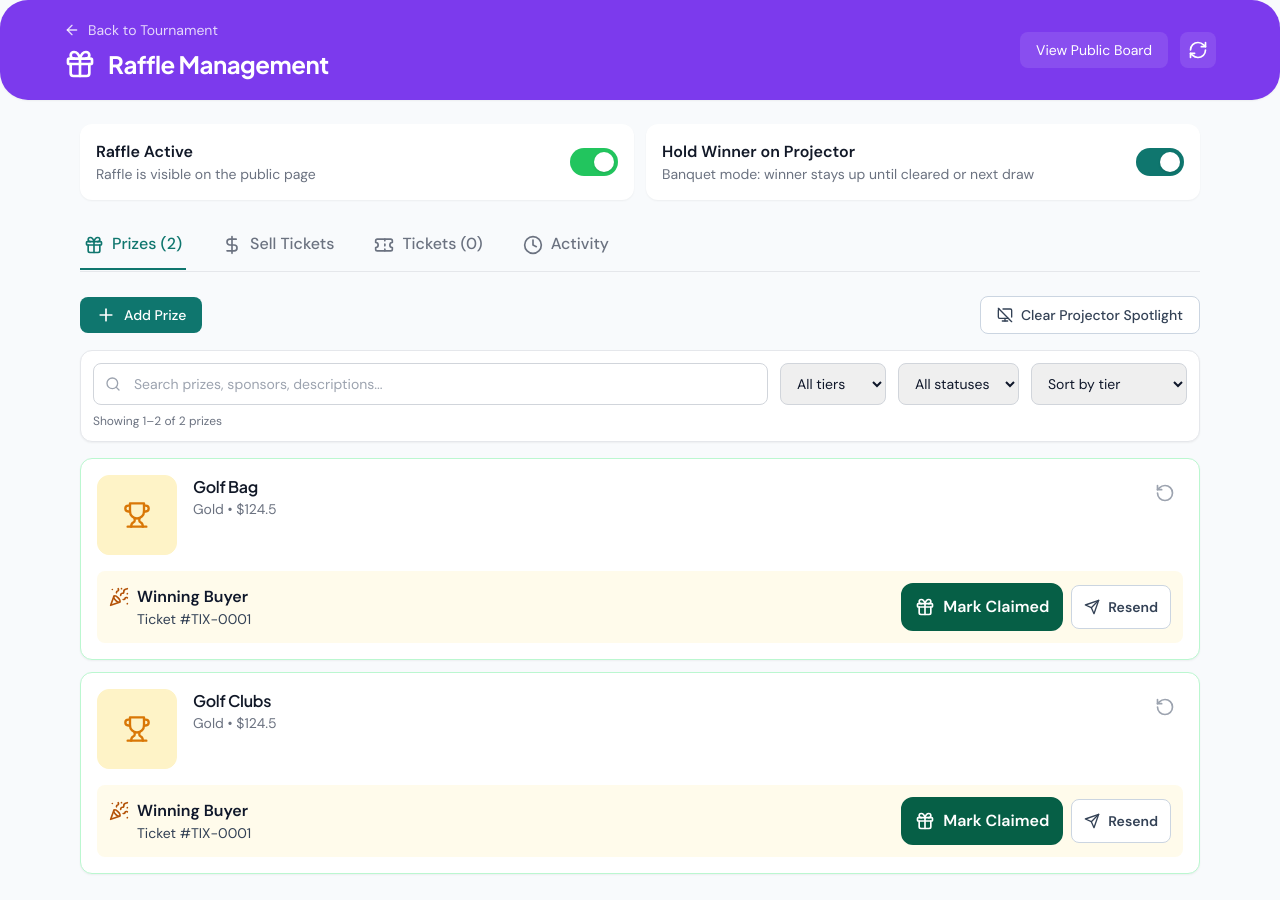
Raffle Management › locks only the selected prize during a request and toggles using the returned claim state
Later steps or results of the test are not shown.
Click the 1st button "Mark Claimed" at (982,607), box [901, 583, 1063, 631]
Click the 1st button "Mark Claimed" at (982,607), box [901, 583, 1063, 631]
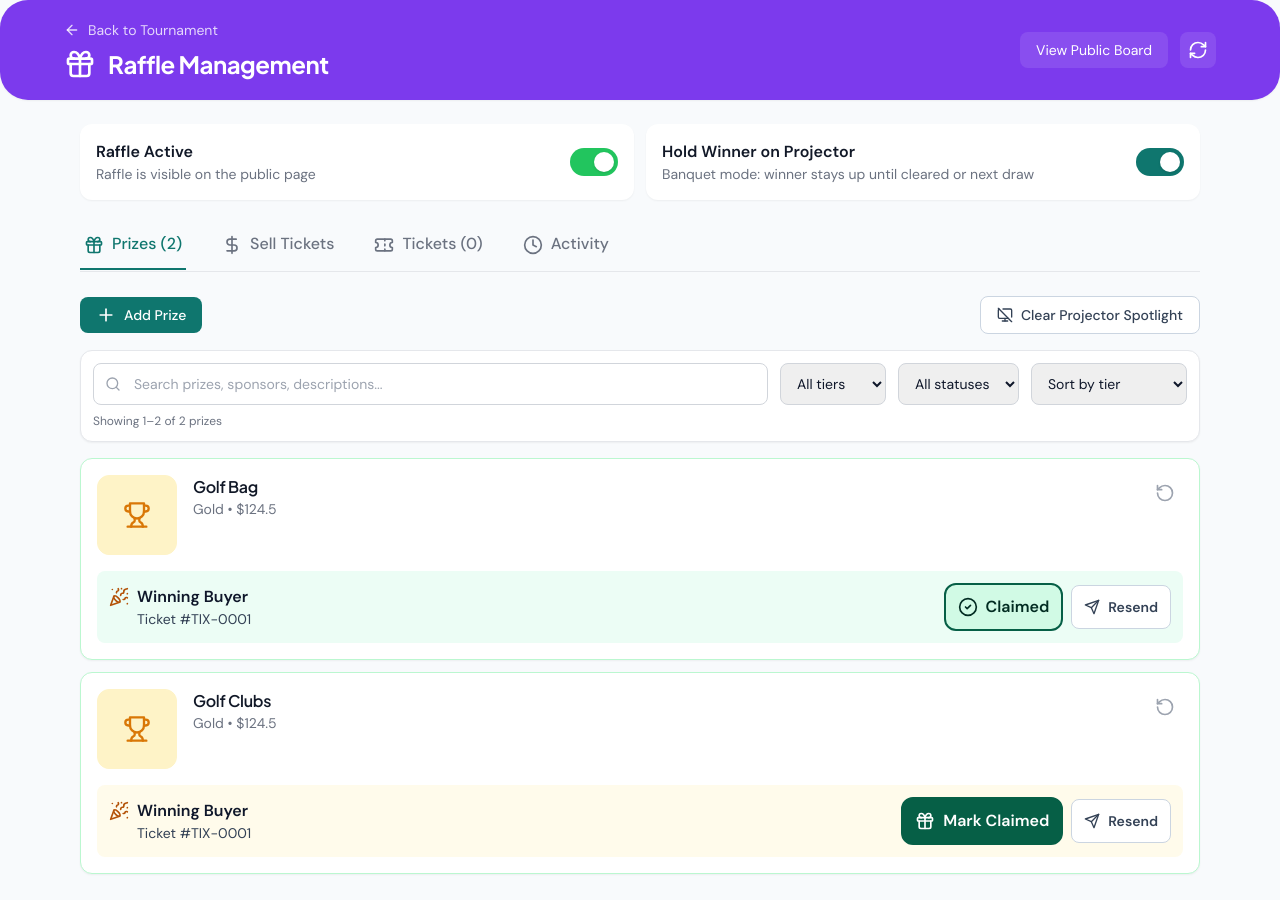
Expected: the button "Mark Claimed" is enabled, [901, 797, 1063, 845]
Expected: the button "Claimed" is shown
Click the button "Claimed" at (1003,607), box [944, 583, 1063, 631]
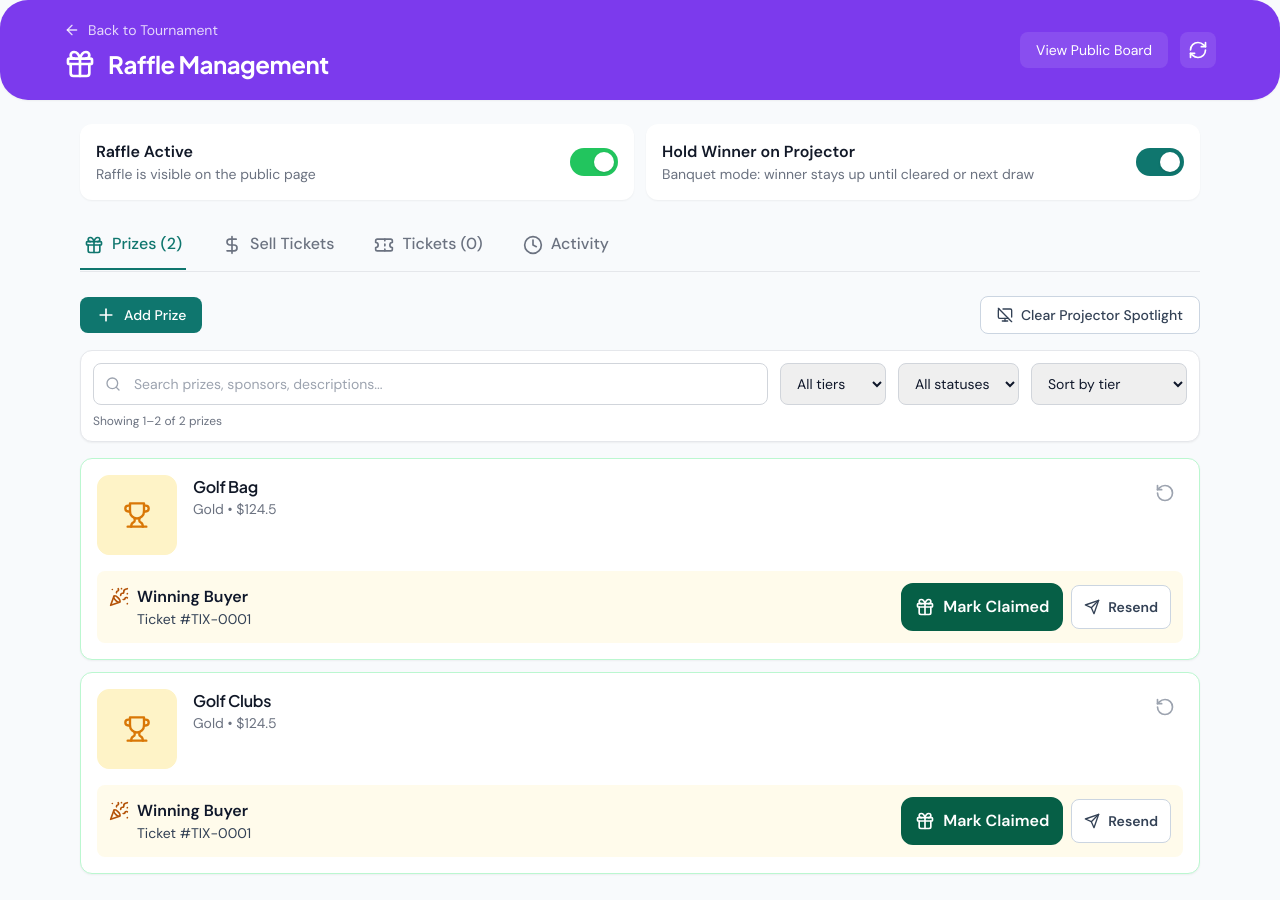
Expected: the 1st button "Mark Claimed" is shown, [901, 583, 1063, 631]
